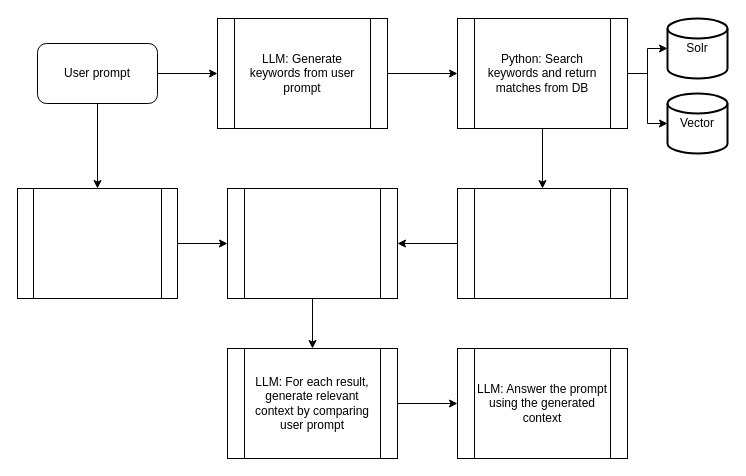
This 746x476 diagram has some shape labels left out. Each missing label, with the centre of its shape:
"LLM: Match answers to the user prompt and discard irrelevant results" goes at (542,243).
"Python: Rank results by vector similarity to user prompt" goes at (312,243).
"Sentence transformer: Encode user prompt into vector" goes at (97,243).
